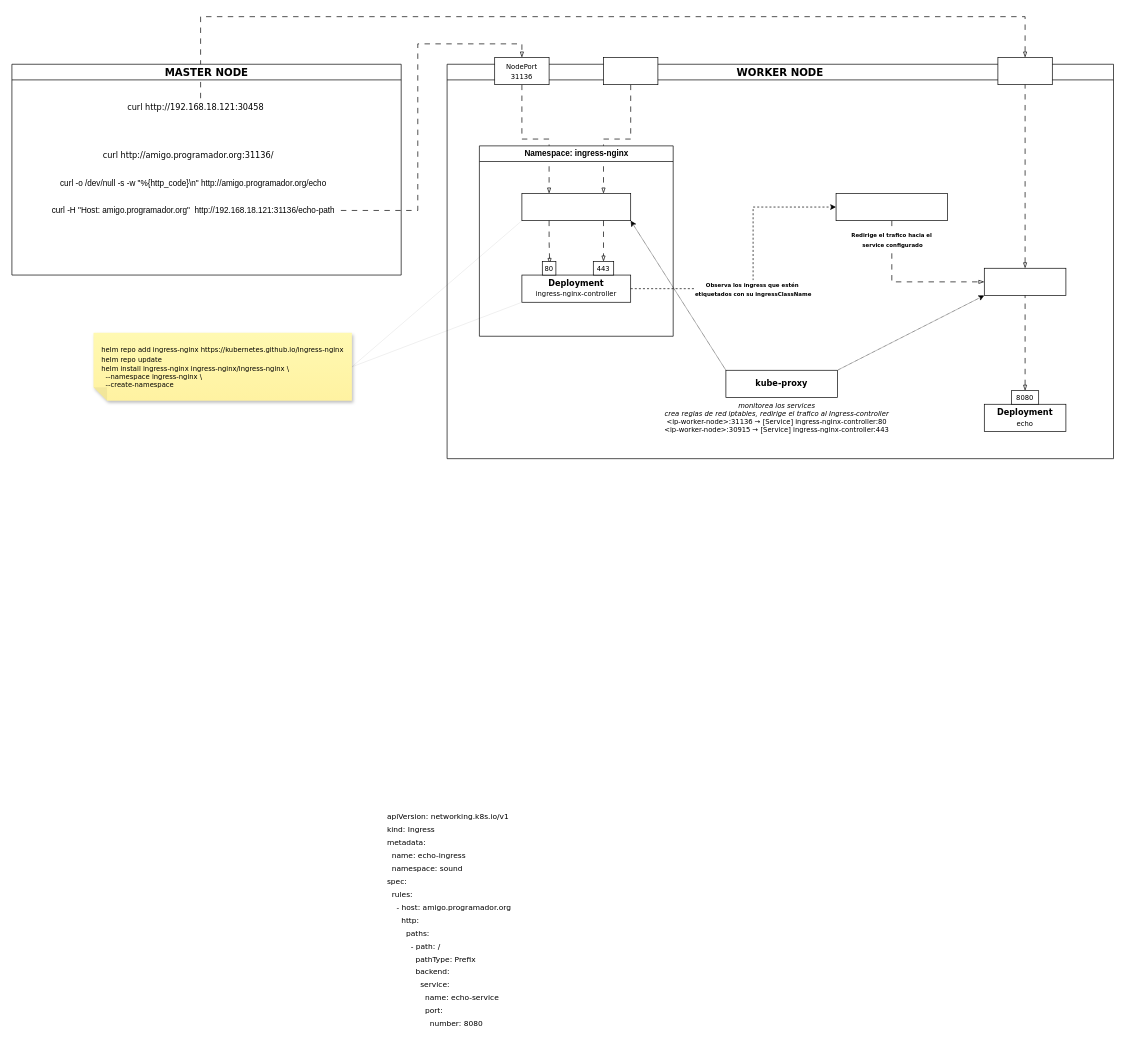
Some shapes in this 1125 by 1055 pixel diagram are drawn without their labels. The shapes that lost their labels are listed below. From the top down, each one's centre as x and y in pixels, then its label:
[630,71]: NodePort 30915
[1024,71]: NodePort 30458
[576,207]: Service ingress-nginx-controller
[891,207]: Ingress echo-ingress
[1025,281]: Service echo-service
